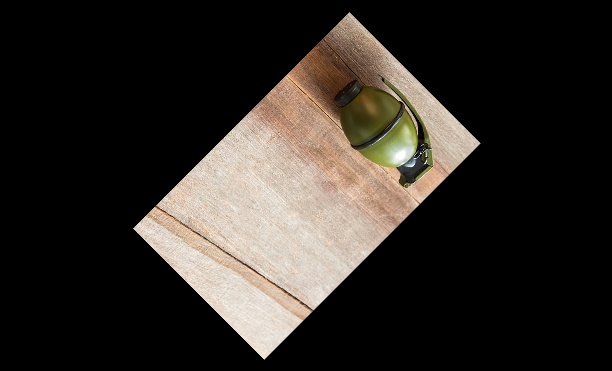e1: (336, 70, 437, 190)
